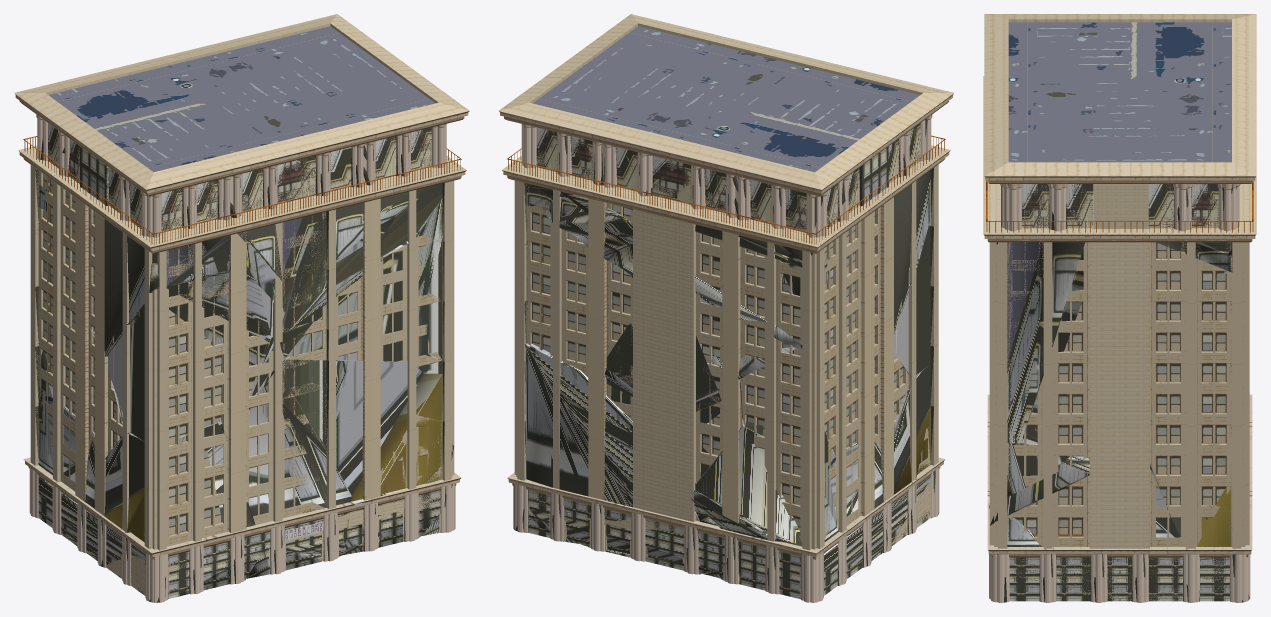
File: A14_Destr.FBX
3 renders of one model, left to right at view 1: azimuth 30°, elevation 25°; view 2: azimuth 150°, elevation 25°; view 3: azimuth 270°, elevation 25°, orthographic. The views are drawn at different scales.
Visible parts, largest first — view 1: K_Building_A14_00_Part_25, K_Building_A14_00_Part_29, K_Building_A14_00_Part_16, K_Building_A14_00_Part_3, K_Building_A14_00_Part_4, K_Building_A14_00_Part_12, K_Building_A14_00_Part_20, K_Building_A14_00_Part_6, K_Building_A14_00_Part_30, K_Building_A14_00_Part_10, K_Building_A14_00_Part_24, K_Building_A14_00_Part_15 (+8 smaller); view 2: K_Building_A14_00_Part_20, K_Building_A14_00_Part_22, K_Building_A14_00_Part_7, K_Building_A14_00_Part_12, K_Building_A14_00_Part_13, K_Building_A14_00_Part_15, K_Building_A14_00_Part_19, K_Building_A14_00_Part_10, K_Building_A14_00_Part_2, K_Building_A14_00_Part_27, K_Building_A14_00_Part_3, K_Building_A14_00_Part_29 (+6 smaller); view 3: K_Building_A14_00_Part_21, K_Building_A14_00_Part_12, K_Building_A14_00_Part_28, K_Building_A14_00_Part_7, K_Building_A14_00_Part_14, K_Building_A14_00_Part_20, K_Building_A14_00_Part_25, K_Building_A14_00_Part_17, K_Building_A14_00_Part_24, K_Building_A14_00_Part_22, K_Building_A14_00_Part_3, K_Building_A14_00_Part_10.
Boxes of the visible parts, box(x1,y1,x2,y2) form: K_Building_A14_00_Part_25: box(214, 87, 469, 311); K_Building_A14_00_Part_29: box(93, 421, 272, 602); K_Building_A14_00_Part_16: box(102, 236, 276, 448); K_Building_A14_00_Part_3: box(95, 146, 247, 359); K_Building_A14_00_Part_4: box(220, 367, 354, 574); K_Building_A14_00_Part_12: box(225, 14, 437, 134); K_Building_A14_00_Part_20: box(14, 36, 245, 166); K_Building_A14_00_Part_6: box(278, 216, 415, 361); K_Building_A14_00_Part_30: box(278, 359, 423, 495); K_Building_A14_00_Part_10: box(30, 137, 152, 353); K_Building_A14_00_Part_24: box(342, 373, 454, 555); K_Building_A14_00_Part_15: box(30, 222, 107, 432); K_Building_A14_00_Part_20: box(590, 113, 882, 265); K_Building_A14_00_Part_22: box(514, 185, 721, 423); K_Building_A14_00_Part_7: box(507, 334, 696, 543); K_Building_A14_00_Part_12: box(499, 36, 777, 205); K_Building_A14_00_Part_13: box(526, 180, 829, 325); K_Building_A14_00_Part_15: box(739, 303, 893, 470); K_Building_A14_00_Part_19: box(695, 425, 890, 562); K_Building_A14_00_Part_10: box(781, 110, 902, 338); K_Building_A14_00_Part_2: box(581, 358, 742, 485); K_Building_A14_00_Part_27: box(690, 490, 890, 602); K_Building_A14_00_Part_3: box(865, 75, 953, 340); K_Building_A14_00_Part_29: box(885, 362, 945, 548); K_Building_A14_00_Part_21: box(1021, 230, 1224, 463); K_Building_A14_00_Part_12: box(1031, 89, 1256, 274); K_Building_A14_00_Part_28: box(987, 456, 1205, 602); K_Building_A14_00_Part_7: box(1150, 399, 1252, 602); K_Building_A14_00_Part_14: box(989, 223, 1090, 444); K_Building_A14_00_Part_20: box(1078, 14, 1256, 129); K_Building_A14_00_Part_25: box(983, 49, 1078, 248); K_Building_A14_00_Part_17: box(995, 36, 1182, 100); K_Building_A14_00_Part_24: box(987, 438, 1114, 534); K_Building_A14_00_Part_22: box(1215, 249, 1249, 403); K_Building_A14_00_Part_3: box(983, 14, 1089, 118); K_Building_A14_00_Part_10: box(1070, 14, 1130, 36).
Size of the model in its own units: 3056 by 3818 by 2174.
